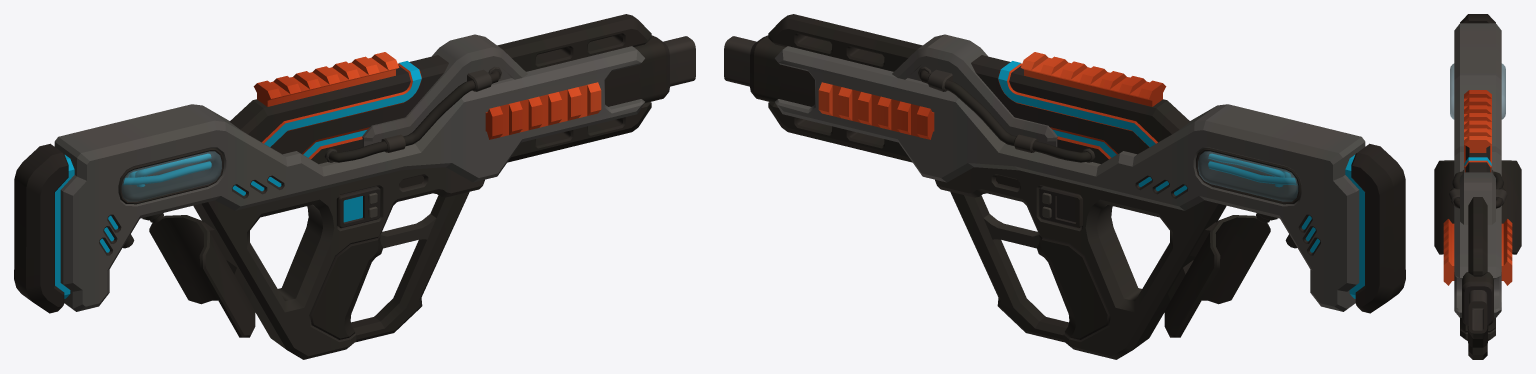
Rendered from SMG8_Base.fbx.
The picture shows the model from 3 angles, left to right: view 1: azimuth 30°, elevation 25°; view 2: azimuth 150°, elevation 25°; view 3: azimuth 270°, elevation 25°; orthographic projection. The views are drawn at different scales.
Parts seen in each view (by area): view 1: SMG8_Base; view 2: SMG8_Base; view 3: SMG8_Base.
Part boxes in pixels (x1,y1,x2,y2): SMG8_Base: (14,14,695,359); SMG8_Base: (724,14,1405,359); SMG8_Base: (1434,14,1521,359).
Size of the model in its own units: 58.31 by 22.86 by 8.2.
